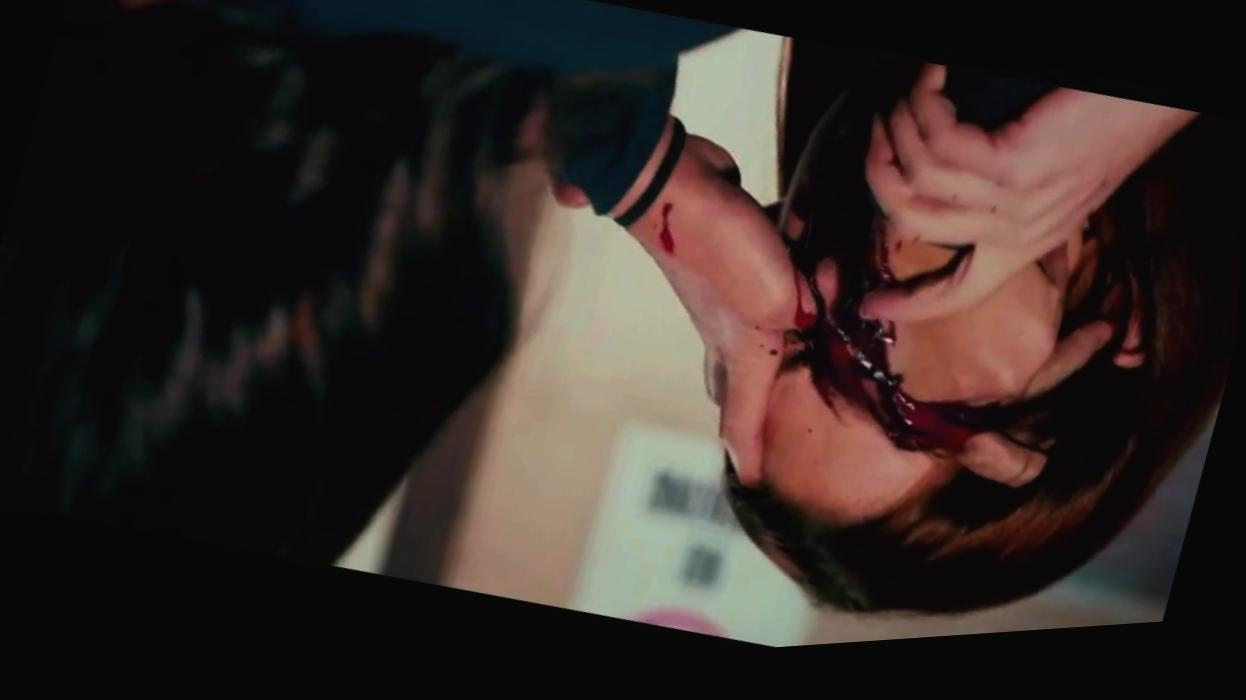Fire: (786, 118, 977, 472), (643, 209, 681, 264)
